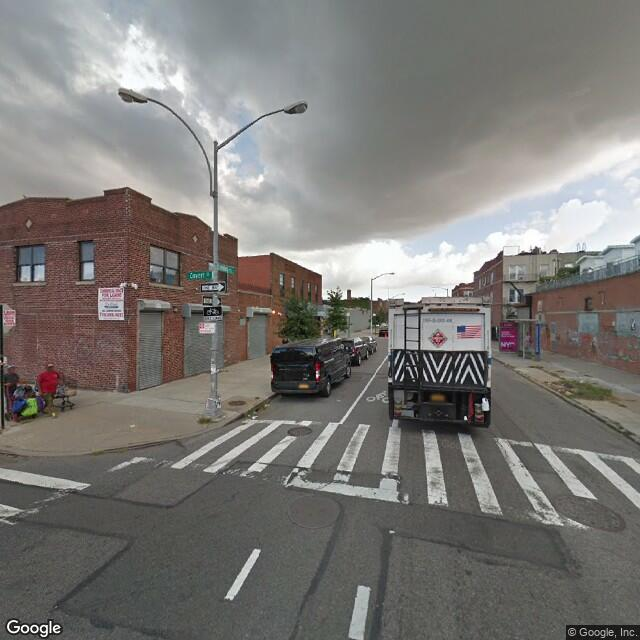litter: (249, 412, 259, 419), (334, 398, 344, 403), (265, 402, 271, 406), (130, 424, 136, 427)
